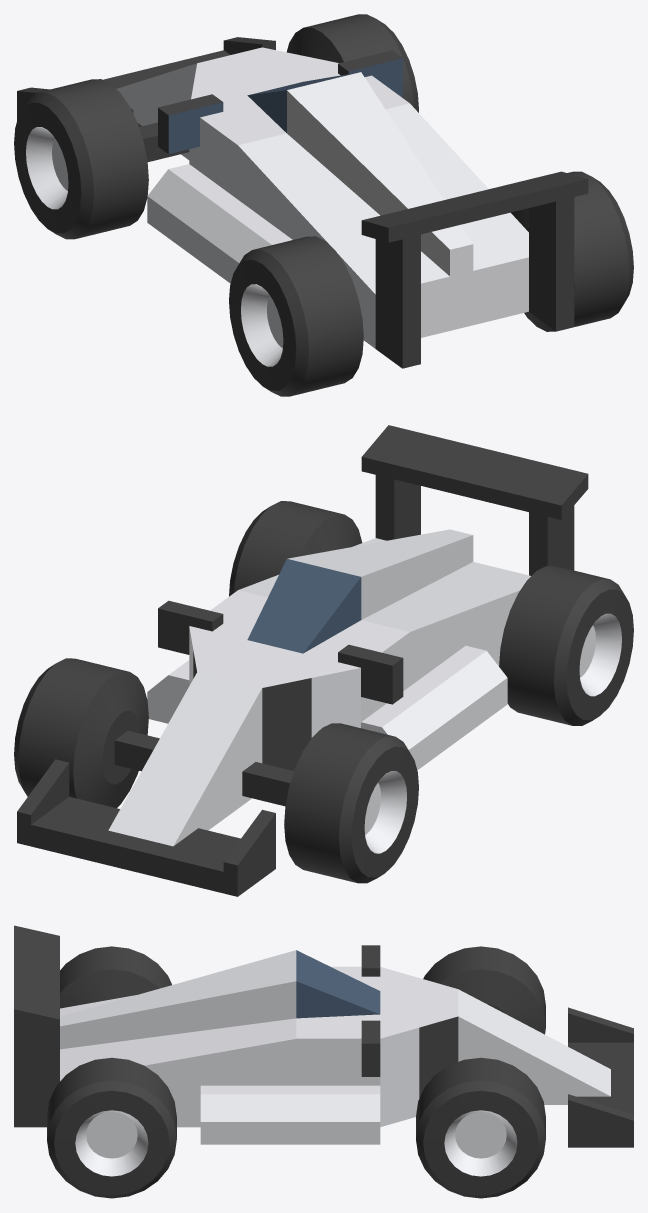
The model's file is race-car-white.dae.
3 renders of one model, top to bottom at view 1: azimuth 30°, elevation 25°; view 2: azimuth 150°, elevation 25°; view 3: azimuth 270°, elevation 25°, orthographic. The views are drawn at different scales.
Parts seen in each view (by area): view 1: body, wheelBackRight, wheelFrontRight, wheelBackLeft, wheelFrontLeft; view 2: body, wheelFrontRight, wheelBackRight, wheelFrontLeft, wheelBackLeft; view 3: body, wheelBackLeft, wheelFrontLeft, wheelFrontRight, wheelBackRight.
Boxes of the visible parts, bbox=[...] form: body: bbox=[17, 37, 588, 368]; wheelBackRight: bbox=[229, 236, 363, 396]; wheelFrontRight: bbox=[14, 79, 148, 239]; wheelBackLeft: bbox=[511, 171, 633, 331]; wheelFrontLeft: bbox=[287, 14, 418, 112]; body: bbox=[17, 425, 588, 896]; wheelFrontRight: bbox=[284, 723, 418, 883]; wheelBackRight: bbox=[499, 566, 633, 725]; wheelFrontLeft: bbox=[14, 658, 148, 808]; wheelBackLeft: bbox=[229, 501, 362, 596]; body: bbox=[14, 925, 633, 1147]; wheelBackLeft: bbox=[47, 1057, 176, 1198]; wheelFrontLeft: bbox=[416, 1057, 545, 1198]; wheelFrontRight: bbox=[423, 946, 545, 1034]; wheelBackRight: bbox=[60, 946, 171, 1008].
Bounding box in the file's own units: 0.7288 × 0.397 × 1.35.
